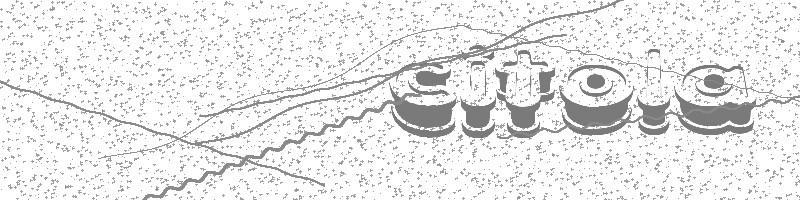a: (672, 61, 764, 142)
c: (383, 57, 458, 136)
i: (458, 38, 498, 147)
l: (637, 46, 678, 141)
o: (561, 58, 634, 138)
t: (494, 45, 555, 139)
